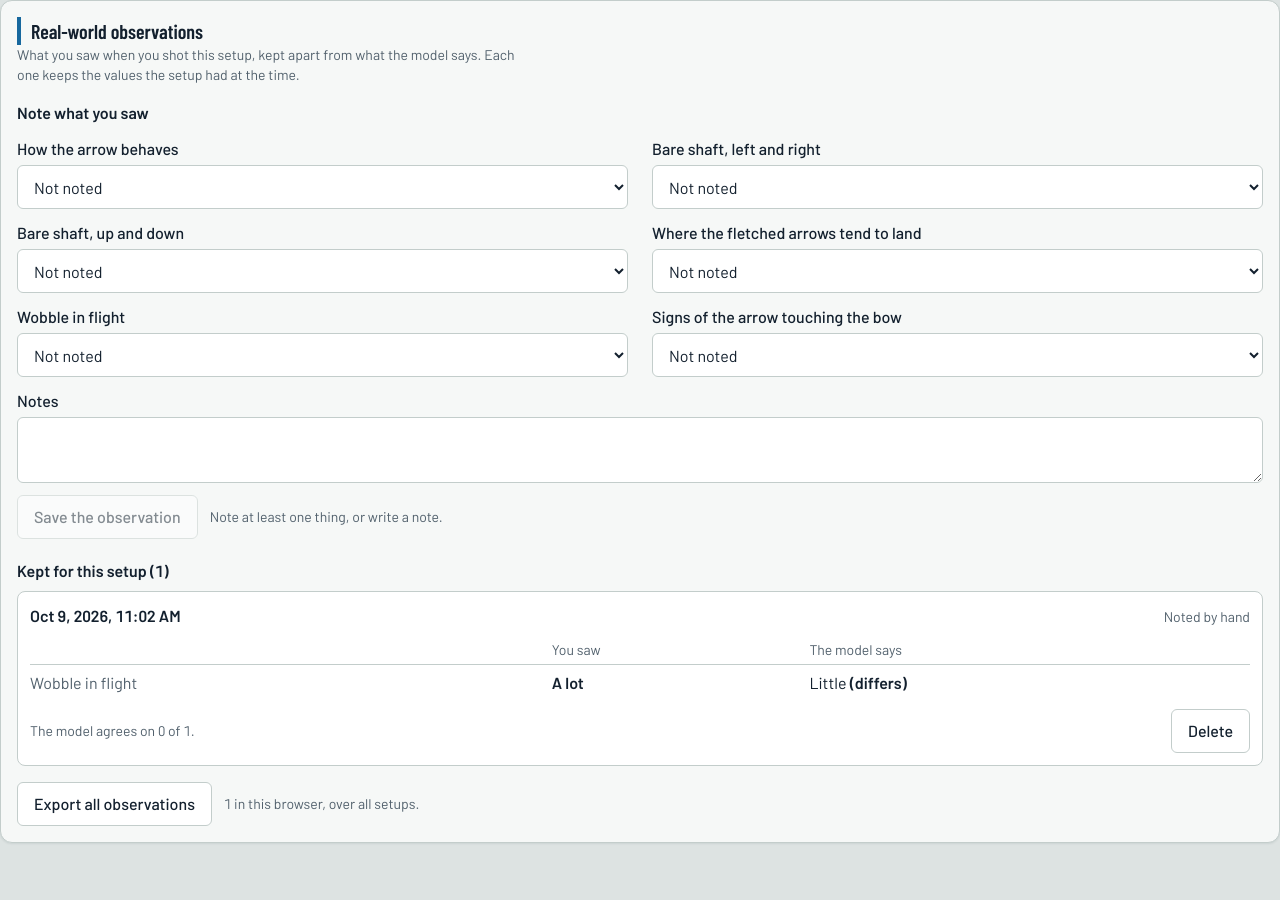
Test: ObservationPanel › writes every observation to a file
Step 1. Click the button "Export all observations" → (114, 804), box [17,782,212,826]
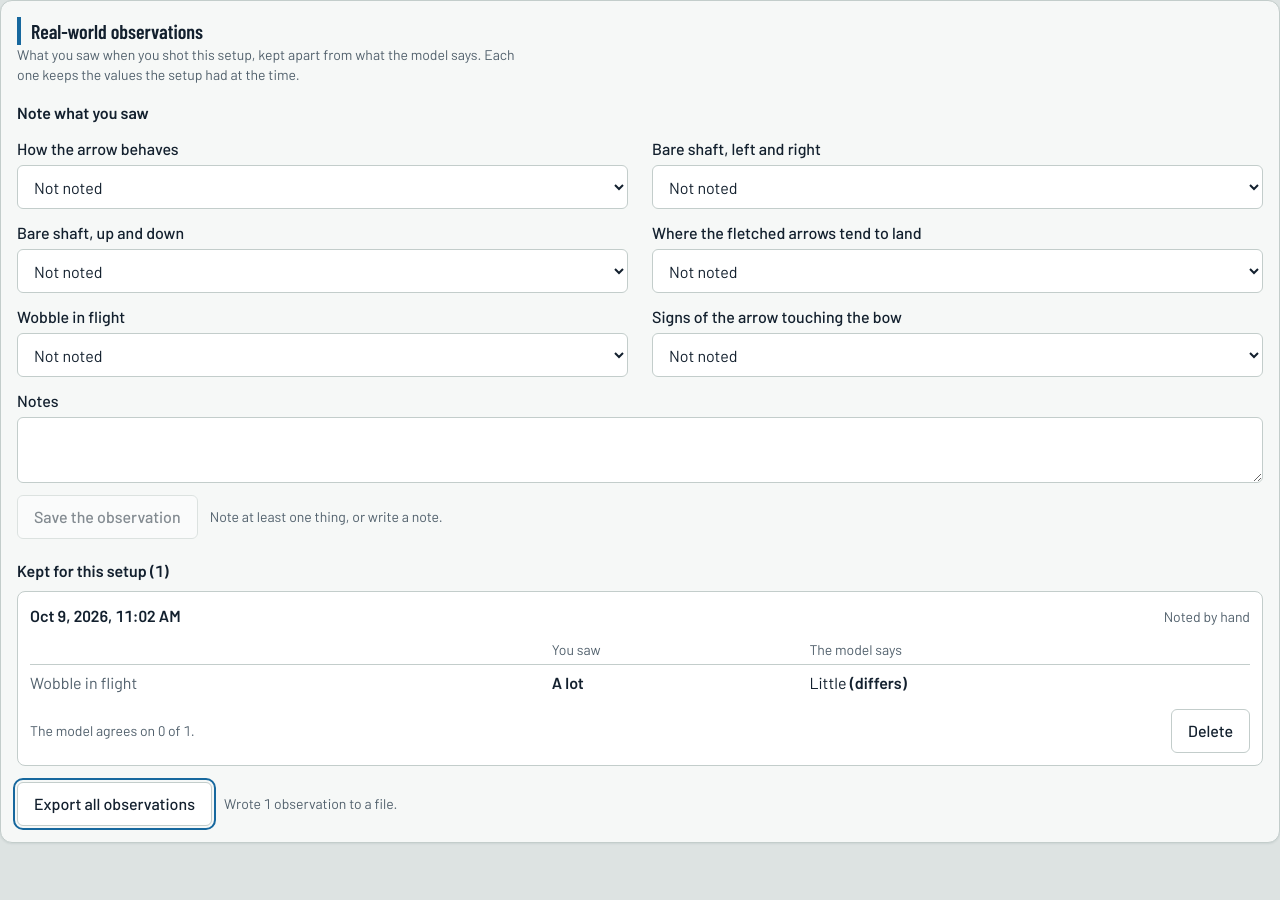
Expected: the text "Wrote 1 observation to a file." is shown, [224,794,397,814]
